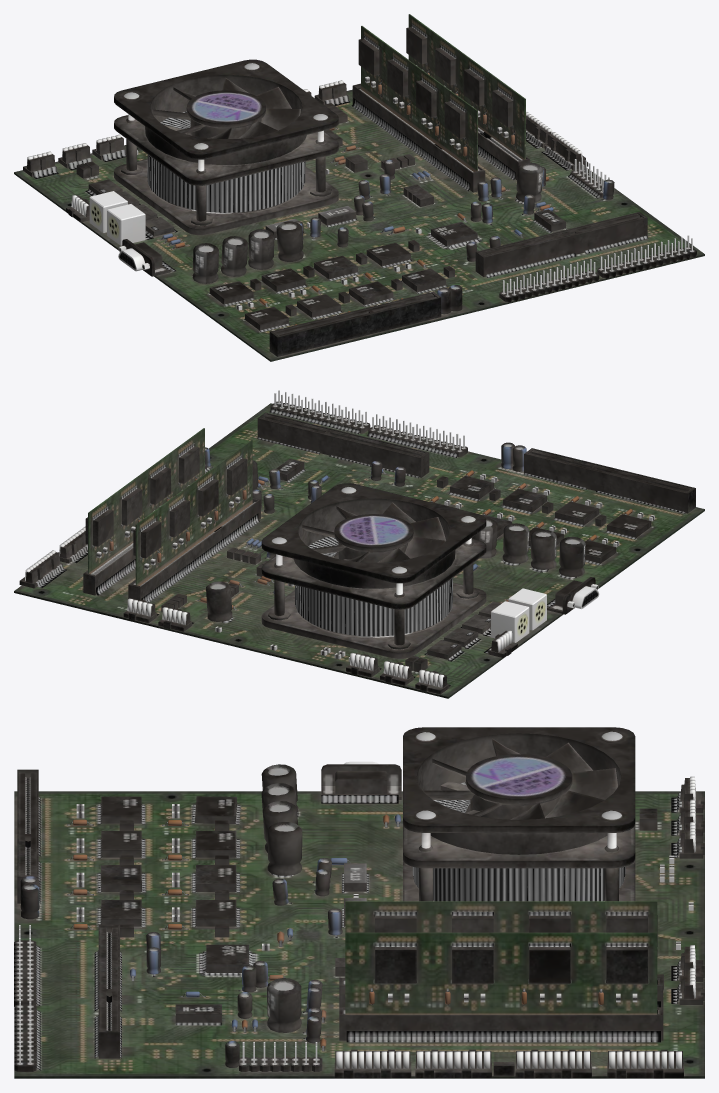
Rendered from circuit_board.glb.
3 views of the same model, one above another, from view 1: azimuth 30°, elevation 25°; view 2: azimuth 150°, elevation 25°; view 3: azimuth 270°, elevation 25° (orthographic). The views are drawn at different scales.
Parts seen in each view (by area): view 1: circuit_board; view 2: circuit_board; view 3: circuit_board.
Part boxes in pixels (x1,y1,x2,y2): circuit_board: (14,14,704,361); circuit_board: (14,390,704,698); circuit_board: (14,727,704,1078).
Size of the model in its own units: 0.4035 by 0.0783 by 0.3974.
2 materials, 2 textured.
